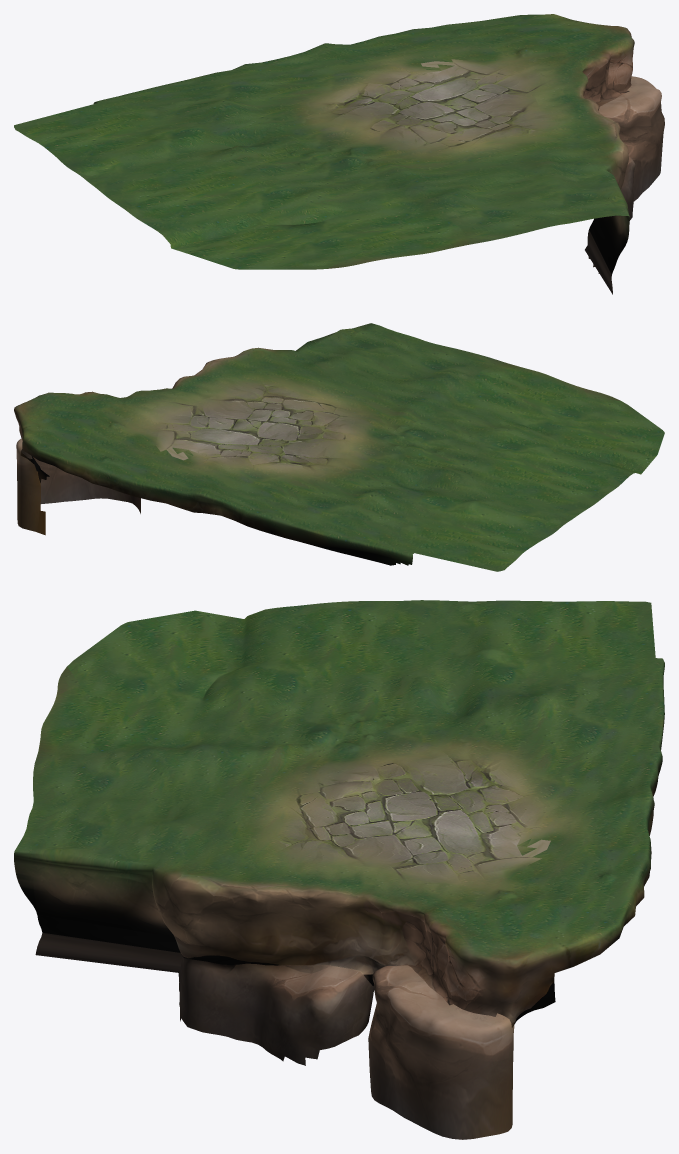
File: sm_floor_01.gltf
The picture shows the model from 3 angles, top to bottom: view 1: azimuth 30°, elevation 25°; view 2: azimuth 150°, elevation 25°; view 3: azimuth 270°, elevation 25°; orthographic projection. The views are drawn at different scales.
Parts seen in each view (by area): view 1: Floor_01; view 2: Floor_01; view 3: Floor_01.
Boxes of the visible parts, x1,y1,x2,y2 form: Floor_01: (14,14,664,294); Floor_01: (14,323,664,571); Floor_01: (14,600,664,1139).
Bounding box in the file's own units: 8.64 × 2.03 × 6.4.
1 material, 1 textured.
